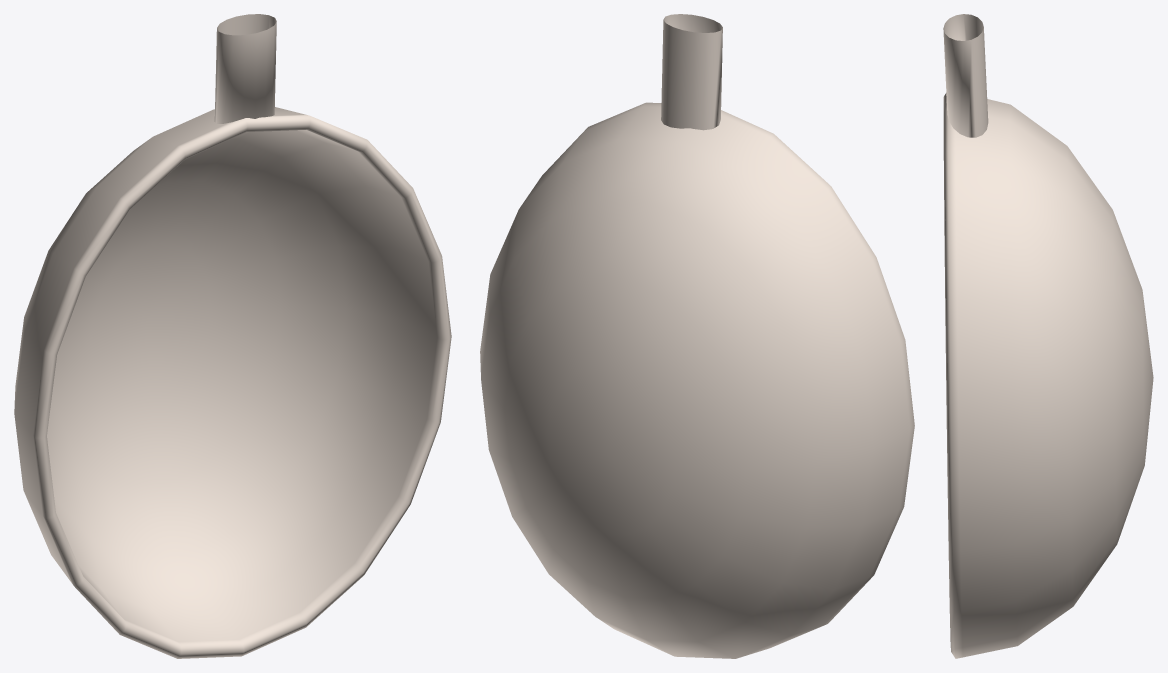
File: MeshLadel2_001_0_GeomSubset_0.obj
The picture shows the model from 3 angles, left to right: view 1: azimuth 30°, elevation 25°; view 2: azimuth 150°, elevation 25°; view 3: azimuth 270°, elevation 25°; orthographic projection.
Parts seen in each view (by area): view 1: MeshLadel2_001_0_GeomSubset_0; view 2: MeshLadel2_001_0_GeomSubset_0; view 3: MeshLadel2_001_0_GeomSubset_0.
Part boxes in pixels (<box>): MeshLadel2_001_0_GeomSubset_0: <box>14,14,451,658</box>; MeshLadel2_001_0_GeomSubset_0: <box>480,14,914,658</box>; MeshLadel2_001_0_GeomSubset_0: <box>943,14,1153,658</box>.
Bounding box in the file's own units: 0.0794 × 0.1144 × 0.0352.
